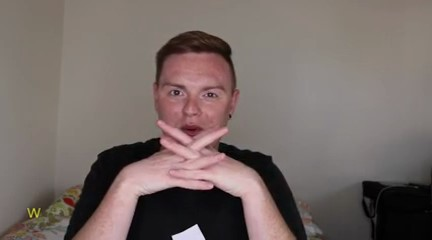W: (115, 121, 257, 205)
